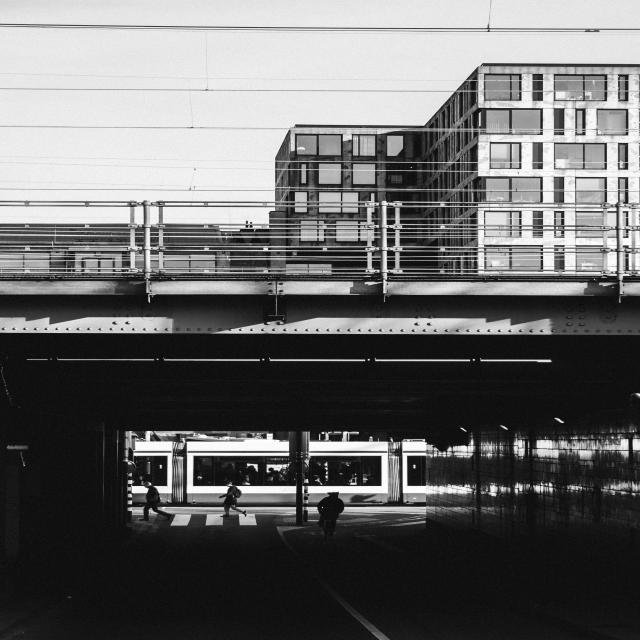adult: (138, 481, 174, 522), (215, 480, 248, 520), (316, 492, 345, 526)
